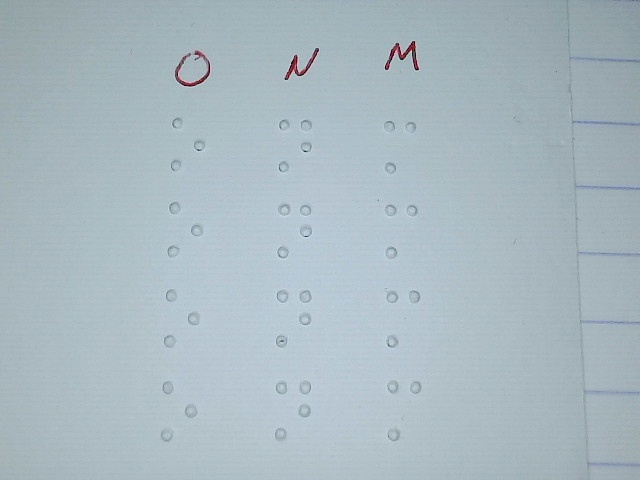M: (387, 378, 422, 442), (385, 288, 421, 348), (381, 118, 418, 174), (383, 203, 420, 259)
N: (275, 287, 312, 349), (275, 379, 312, 441), (277, 116, 314, 172), (276, 202, 313, 258)
O: (159, 380, 198, 441), (163, 288, 201, 348), (167, 200, 205, 258), (169, 116, 206, 172)
